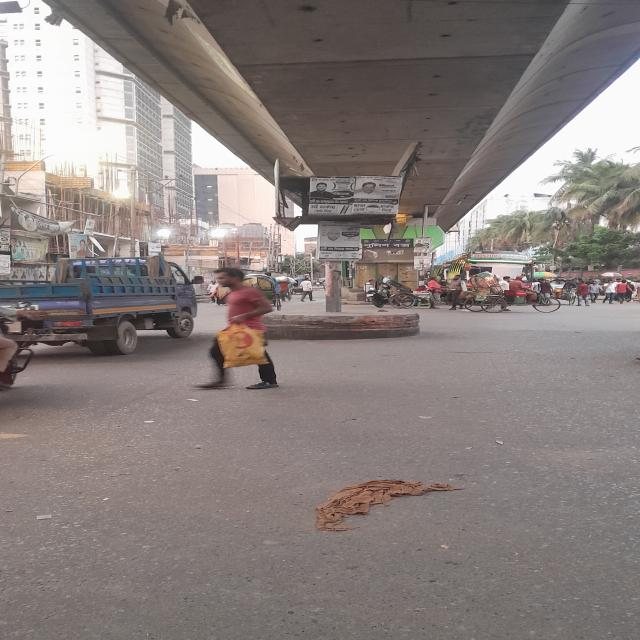person: (195, 268, 278, 390), (447, 274, 467, 310), (301, 278, 313, 302)
